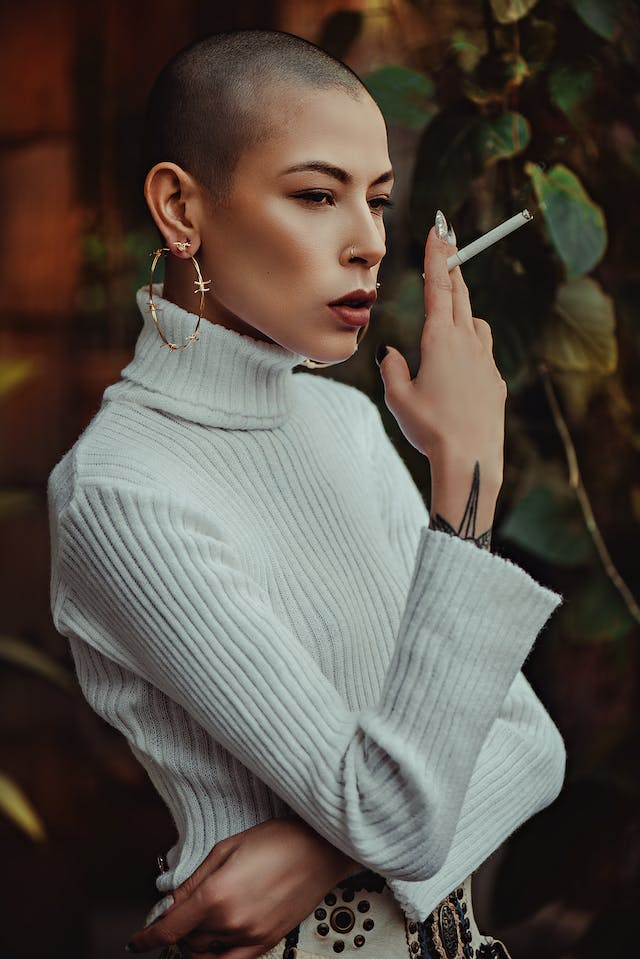Cigarette: (420, 207, 536, 282)
